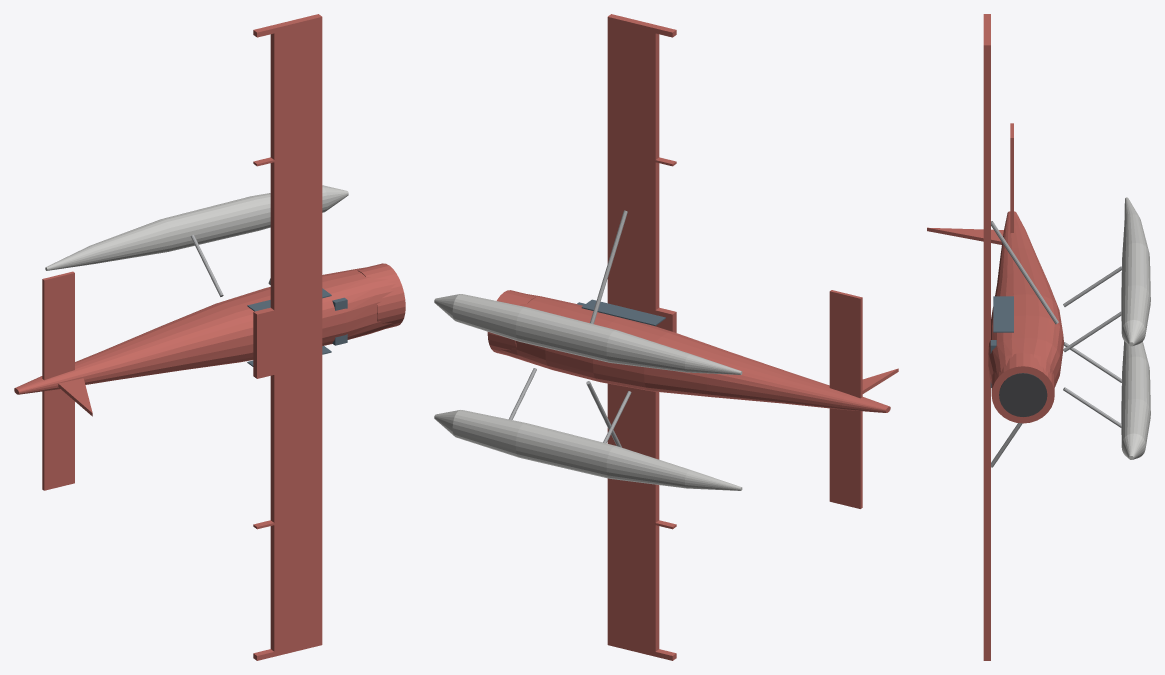
File: beaver_body_red.glb
The picture shows the model from 3 angles, left to right: view 1: azimuth 30°, elevation 25°; view 2: azimuth 150°, elevation 25°; view 3: azimuth 270°, elevation 25°; orthographic projection. The views are drawn at different scales.
Visible parts, largest first — view 1: part15, part16, part0, part21, part19, part1, part20; view 2: part15, part16, part0, part24, part21, part19, part13, part1; view 3: part0, part21, part24, part15, part16, part1, part2, part13, part20, part17, part19.
Part boxes in pixels (<box>): part15: <box>253,14,322,346</box>; part16: <box>253,331,322,660</box>; part0: <box>14,267,395,394</box>; part21: <box>45,185,348,270</box>; part19: <box>42,271,74,490</box>; part1: <box>357,263,405,328</box>; part20: <box>58,378,92,416</box>; part15: <box>607,14,676,332</box>; part16: <box>607,383,676,660</box>; part0: <box>498,294,890,412</box>; part24: <box>434,410,742,490</box>; part21: <box>434,294,742,374</box>; part19: <box>829,290,862,508</box>; part13: <box>581,299,665,326</box>; part1: <box>487,290,535,354</box>; part0: <box>988,211,1063,387</box>; part21: <box>1121,197,1150,346</box>; part24: <box>1121,341,1150,459</box>; part15: <box>983,14,990,352</box>; part16: <box>983,353,990,660</box>; part1: <box>991,353,1054,423</box>; part2: <box>999,373,1047,416</box>; part13: <box>993,296,1013,332</box>; part20: <box>927,227,1003,244</box>; part17: <box>991,221,1058,324</box>; part19: <box>1010,123,1013,233</box>.
Size of the model in its own units: 9.55 by 14.63 by 4.82.
